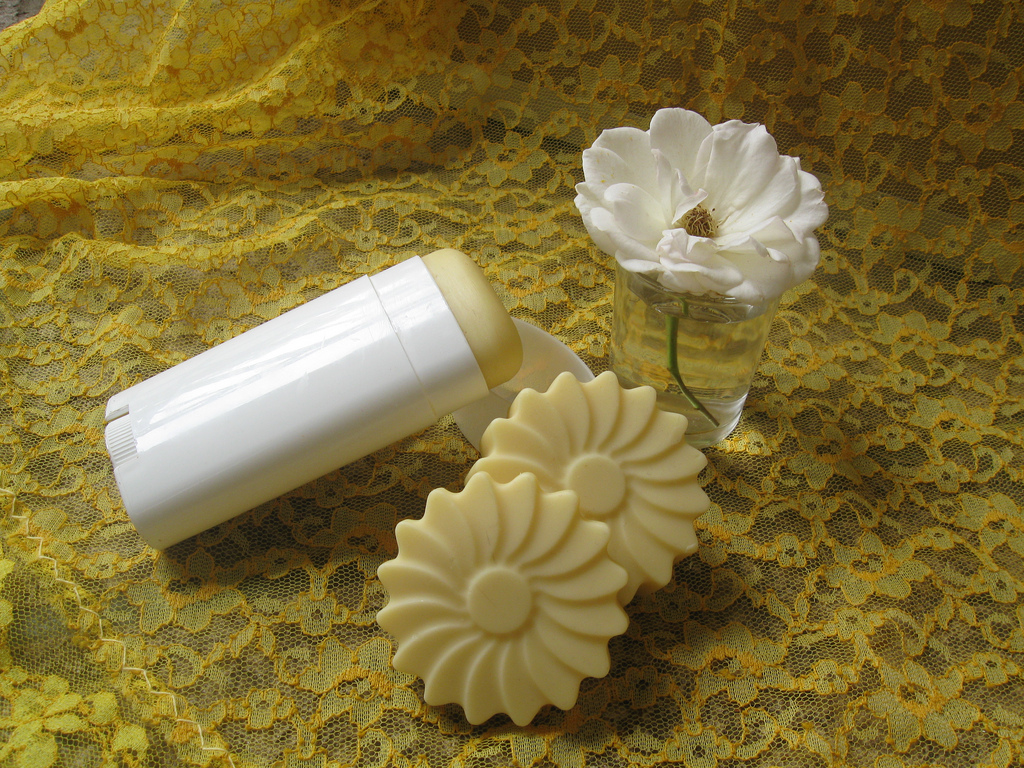glass of water: (612, 267, 766, 452)
